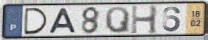6: (162, 6, 182, 33)
8: (81, 6, 102, 35)
A: (48, 8, 78, 34)
D: (24, 7, 50, 36)
H: (130, 4, 160, 36)
Q: (104, 6, 131, 34)
